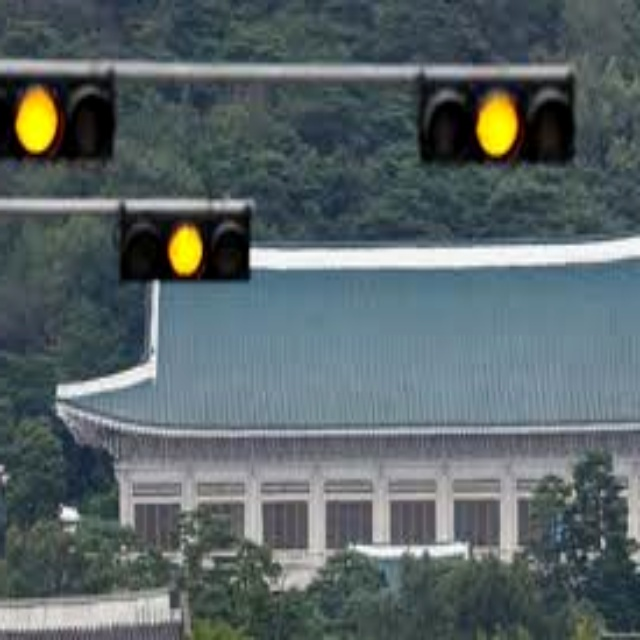yellow_light: (11, 88, 57, 154), (475, 96, 521, 156), (168, 223, 205, 275)
